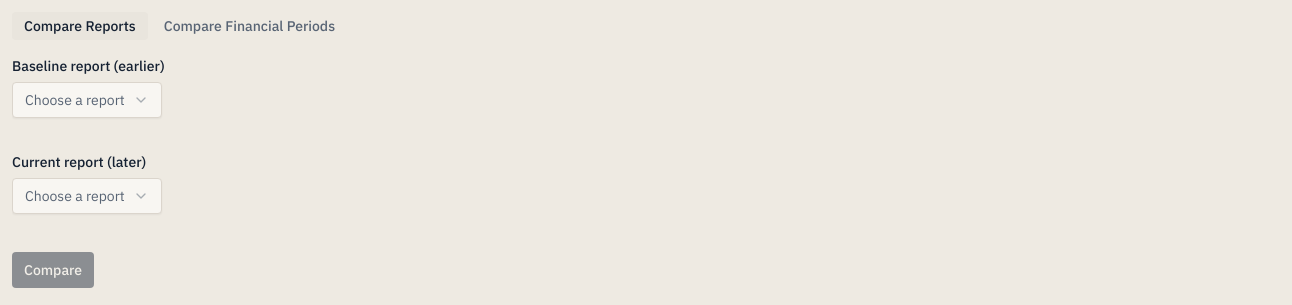
Test: ChangeBriefSection › surfaces a failed run honestly, with retry
Expected: the text "Baseline report (earlier)" is shown, [12, 57, 165, 75]
Click the dropdown labelled "Choose a report" below "Baseline report (earlier)": (87, 100) [12, 82, 162, 118]
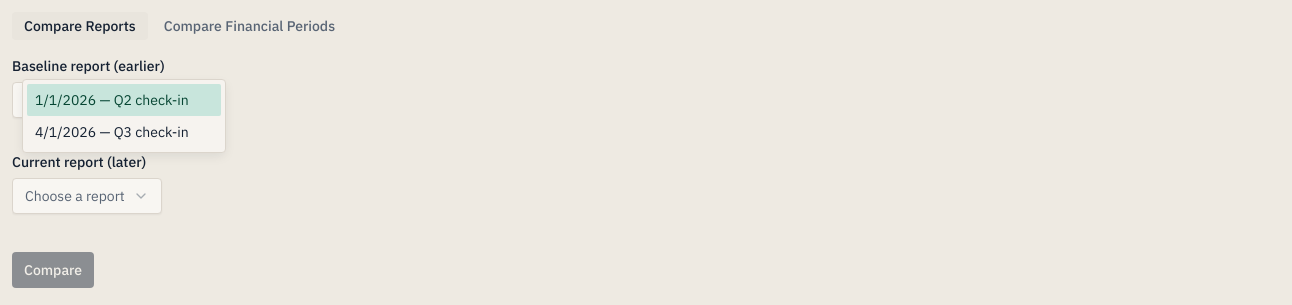
Click the option "1/1/2026 — Q2 check-in": (124, 100) [27, 84, 221, 116]
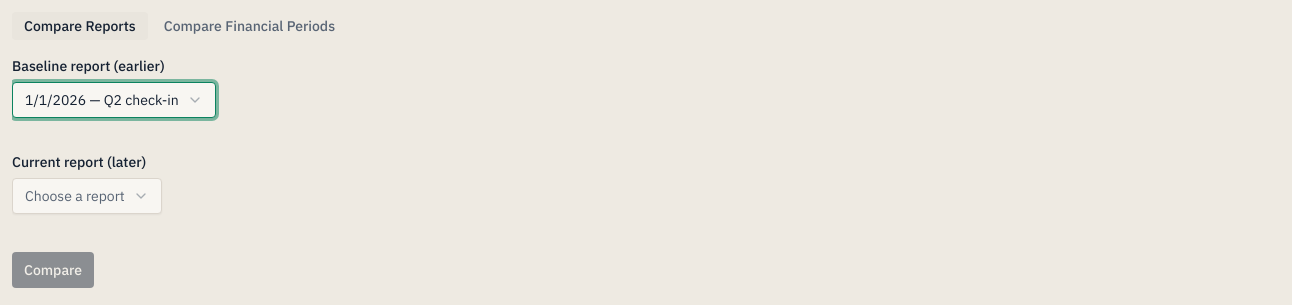
Click the dropdown labelled "Choose a report": (87, 196) [12, 178, 162, 214]
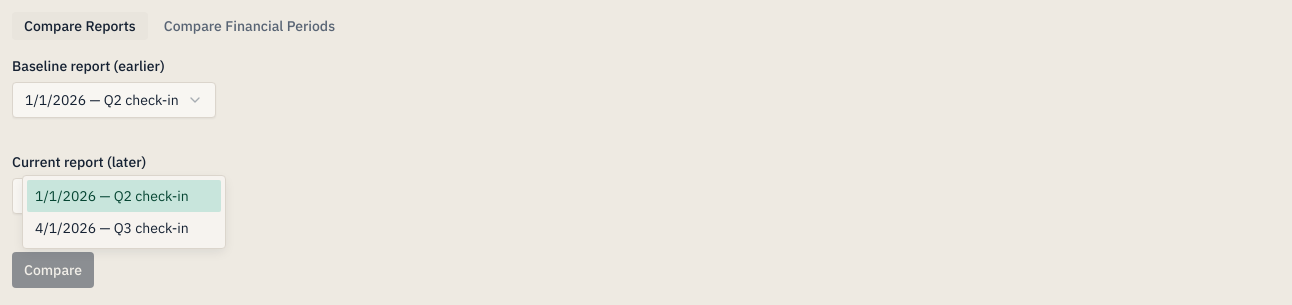
Click the option "4/1/2026 — Q3 check-in": (112, 228) [35, 219, 189, 237]
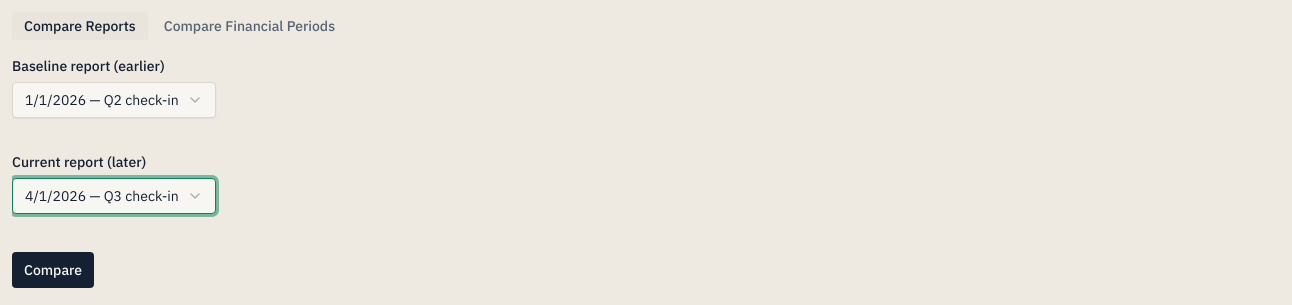
Click the button "Compare": (53, 270) [12, 252, 94, 288]
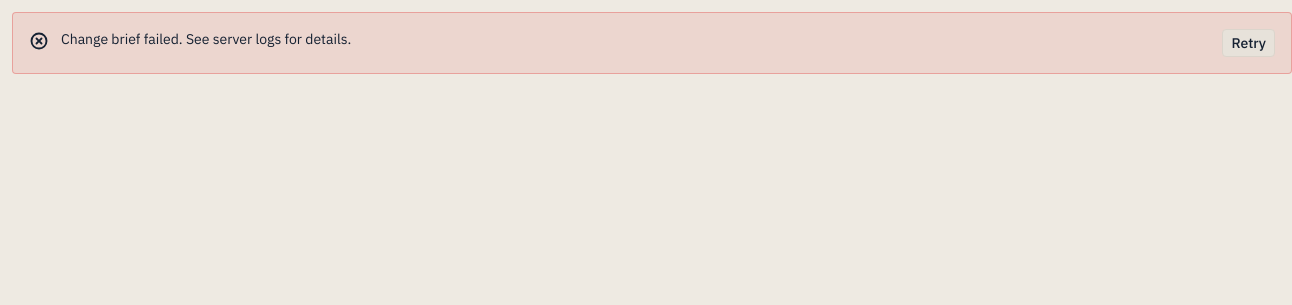
Result: the message shows "Change brief failed. See server logs for details." at [61, 30, 351, 48]
Result: the button "Retry" is shown at [1222, 29, 1275, 57]
